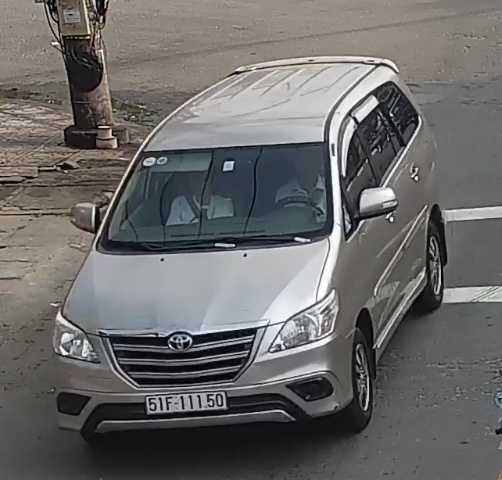vehicle plate: (139, 387, 234, 417)
